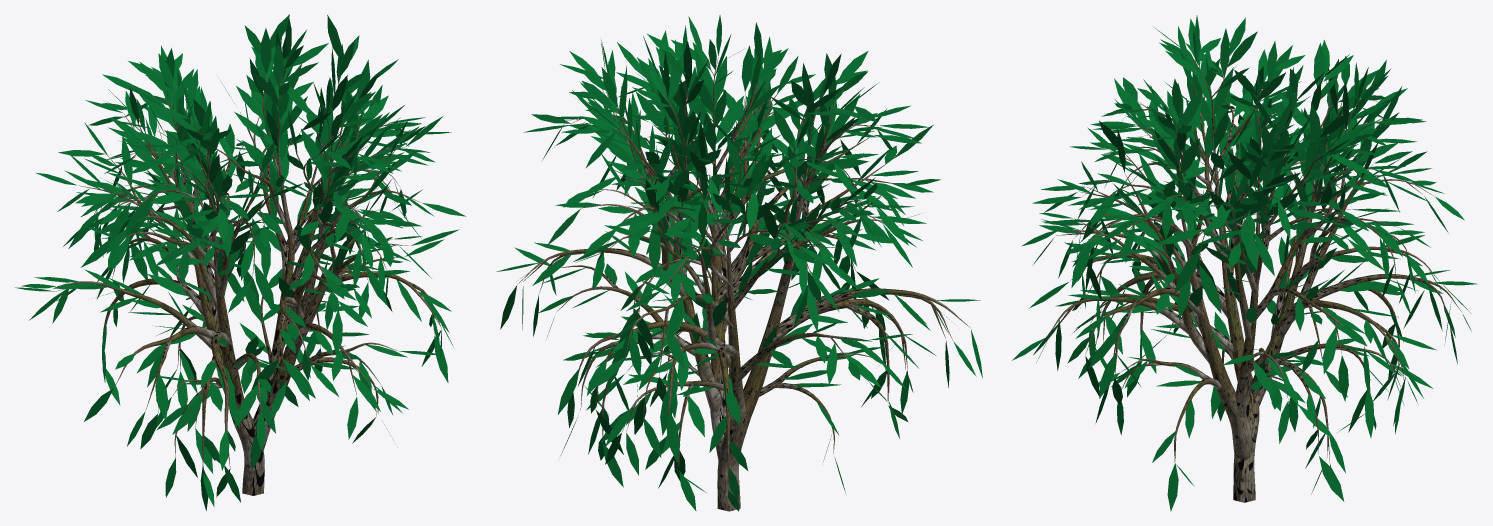
Rendered from Tree 1.fbx.
The picture shows the model from 3 angles, left to right: view 1: azimuth 30°, elevation 25°; view 2: azimuth 150°, elevation 25°; view 3: azimuth 270°, elevation 25°; orthographic projection. The views are drawn at different scales.
Visible parts, largest first — view 1: leaves, tree; view 2: leaves, tree; view 3: leaves, tree.
Part boxes in pixels (x1,y1,x2,y2): leaves: (15, 14, 465, 510); tree: (55, 63, 441, 495); leaves: (496, 15, 982, 511); tree: (517, 57, 970, 511); leaves: (1012, 15, 1477, 511); tree: (1046, 55, 1461, 502).
Size of the model in its own units: 630 by 669 by 617.
